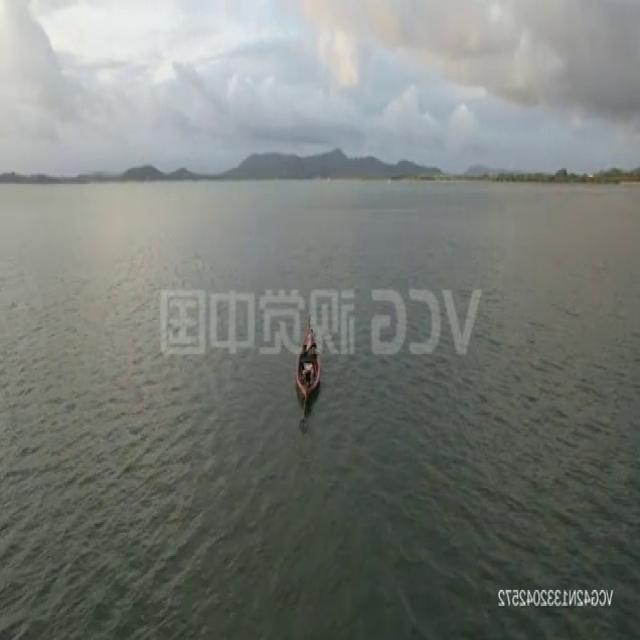fishing boat: (293, 310, 324, 422)
